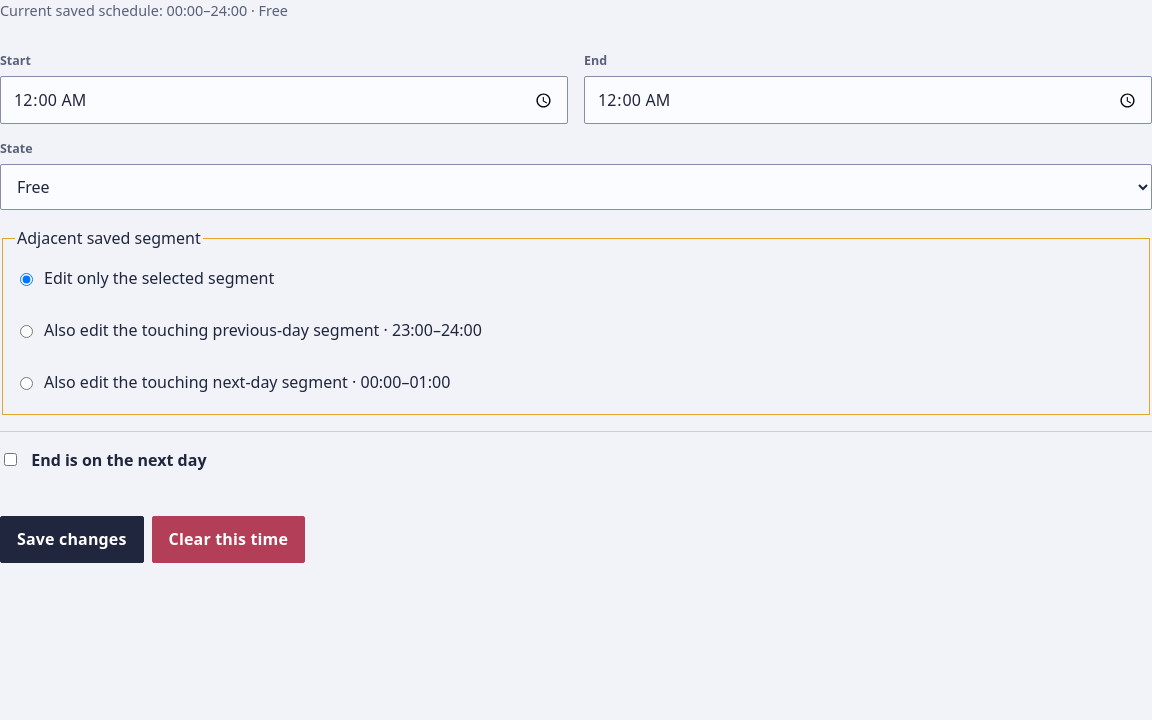
Test: ScheduleIntervalSheet › rejects combining previous/current/next into a three-day draft
Step 1. Click the checkbox labelled "End is on the next day" → (10, 460), box left=4, top=453, right=17, bottom=466
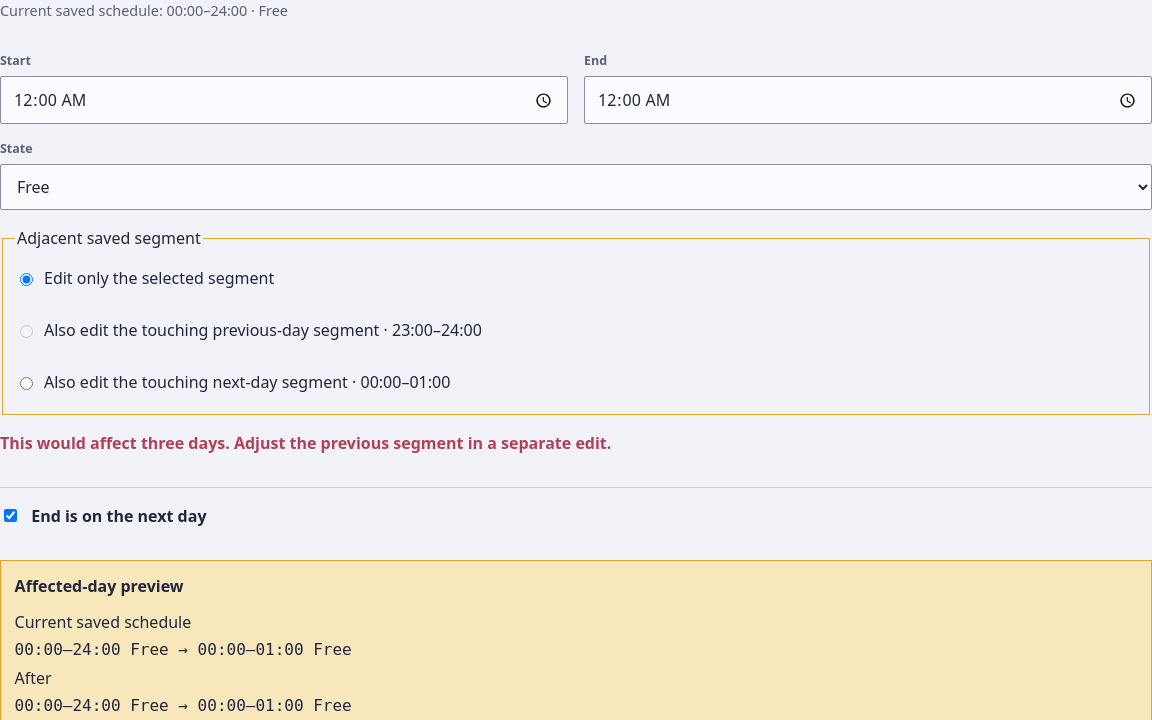
Result: the radio button labelled "Also edit the touching previous-day segment · 23:00–24:00" is disabled at left=20, top=325, right=33, bottom=338
Result: the text "This would affect three days. Adjust the previous segment in a separate edit." is shown at left=0, top=432, right=611, bottom=454
